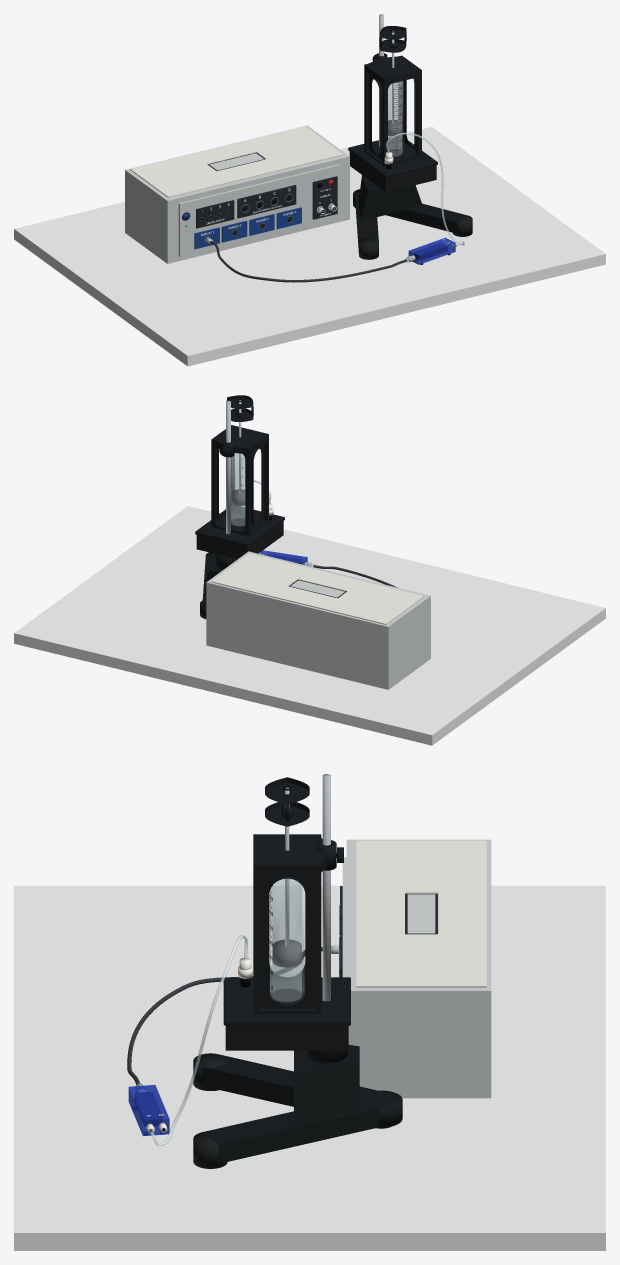
The model's file is EX5531_TD8572A_ratio_specific_heats_final.glb.
3 renders of one model, top to bottom at view 1: azimuth 30°, elevation 25°; view 2: azimuth 150°, elevation 25°; view 3: azimuth 270°, elevation 25°, orthographic. The views are drawn at different scales.
Parts seen in each view (by area): view 1: Tabletop, UniversalInterface_RoundedHousing, UniversalInterface_TopCover, UniversalInterface_FrontPanel, Base_CastIron_LeftBeam, BaseToInstrument_CrossMount, LowerHousing, ProtectiveFrame_FrontPanel, LowerHousing_TopLip, Cylinder_Pyrex, UniversalInterface_AnalogPanel, ProtectiveFrame_TopSlab (+8 smaller); view 2: Tabletop, UniversalInterface_RoundedHousing, UniversalInterface_TopCover, LowerHousing, ProtectiveFrame_BackPanel, LowerHousing_TopLip, Cylinder_Pyrex, ProtectiveFrame_TopSlab, ProtectiveFrame_FrontPanel, ProtectiveFrame_LeftPanel, SupportRod_45cm, ProtectiveFrame_BottomSlab; view 3: Tabletop, UniversalInterface_TopCover, UniversalInterface_RoundedHousing, Base_CastIron_LeftBeam, Cylinder_Pyrex, BaseToInstrument_CrossMount, LowerHousing_TopLip, ProtectiveFrame_RightPanel, LowerHousing, ProtectiveFrame_TopSlab, SupportRod_45cm, SensorShell_Blue (+12 smaller).
Part boxes in pixels (left/top/right/bottom): Tabletop: left=14, top=127, right=605, bottom=366; UniversalInterface_RoundedHousing: left=125, top=125, right=349, bottom=263; UniversalInterface_TopCover: left=130, top=126, right=343, bottom=197; UniversalInterface_FrontPanel: left=178, top=164, right=339, bottom=256; Base_CastIron_LeftBeam: left=353, top=189, right=467, bottom=252; BaseToInstrument_CrossMount: left=358, top=175, right=422, bottom=219; LowerHousing: left=349, top=152, right=436, bottom=192; ProtectiveFrame_FrontPanel: left=382, top=69, right=421, bottom=165; LowerHousing_TopLip: left=348, top=136, right=437, bottom=177; Cylinder_Pyrex: left=388, top=81, right=402, bottom=156; UniversalInterface_AnalogPanel: left=237, top=185, right=296, bottom=218; ProtectiveFrame_TopSlab: left=364, top=55, right=421, bottom=85; Tabletop: left=14, top=506, right=605, bottom=745; UniversalInterface_RoundedHousing: left=206, top=551, right=430, bottom=689; UniversalInterface_TopCover: left=211, top=553, right=424, bottom=624; LowerHousing: left=196, top=521, right=283, bottom=559; ProtectiveFrame_BackPanel: left=211, top=438, right=250, bottom=535; LowerHousing_TopLip: left=195, top=505, right=284, bottom=546; Cylinder_Pyrex: left=231, top=453, right=245, bottom=526; ProtectiveFrame_TopSlab: left=211, top=425, right=268, bottom=453; ProtectiveFrame_FrontPanel: left=231, top=425, right=268, bottom=520; ProtectiveFrame_LeftPanel: left=250, top=444, right=264, bottom=529; SupportRod_45cm: left=226, top=400, right=230, bottom=534; ProtectiveFrame_BottomSlab: left=213, top=512, right=268, bottom=535; Tabletop: left=14, top=885, right=605, bottom=1250; UniversalInterface_TopCover: left=356, top=840, right=486, bottom=987; UniversalInterface_RoundedHousing: left=346, top=839, right=491, bottom=1098; Base_CastIron_LeftBeam: left=202, top=1054, right=402, bottom=1163; Cylinder_Pyrex: left=270, top=878, right=304, bottom=1002; BaseToInstrument_CrossMount: left=294, top=1045, right=359, bottom=1125; LowerHousing_TopLip: left=223, top=977, right=350, bottom=1025; ProtectiveFrame_RightPanel: left=259, top=876, right=315, bottom=1008; LowerHousing: left=225, top=999, right=348, bottom=1050; ProtectiveFrame_TopSlab: left=253, top=834, right=321, bottom=875; SupportRod_45cm: left=322, top=774, right=330, bottom=1001; SensorShell_Blue: left=128, top=1085, right=169, bottom=1136.
Bounding box in the file's own units: 1.25 × 0.612 × 0.9.
